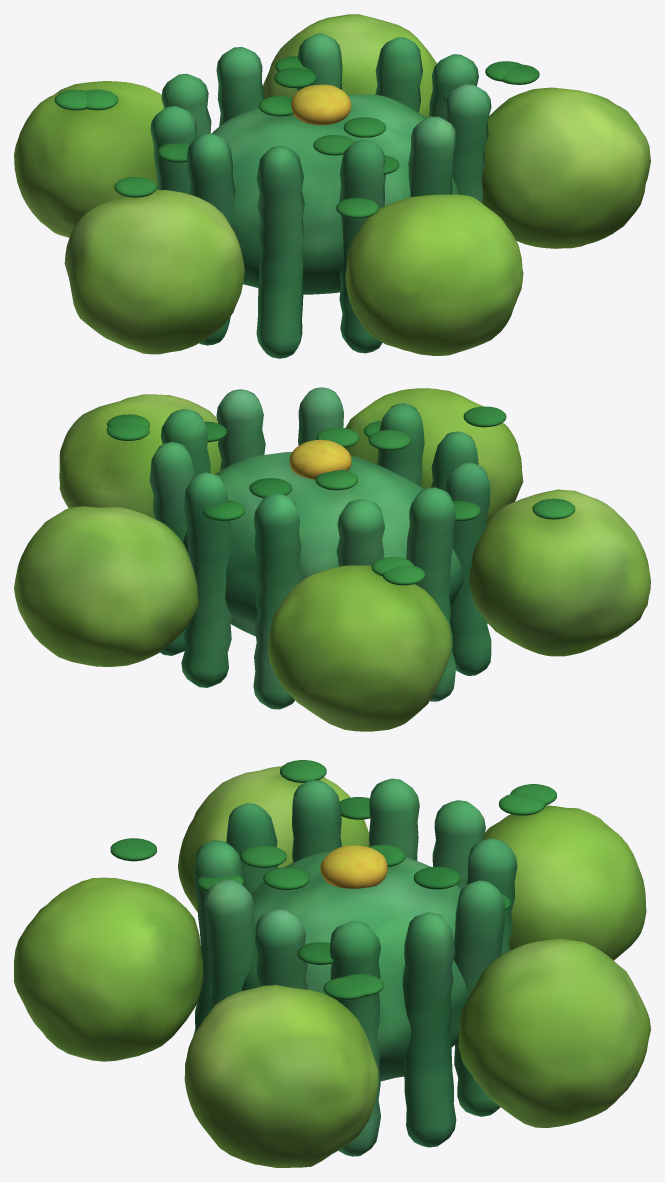
Rendered from photosystem-1.glb.
The picture shows the model from 3 angles, top to bottom: view 1: azimuth 30°, elevation 25°; view 2: azimuth 150°, elevation 25°; view 3: azimuth 270°, elevation 25°; orthographic projection. The views are drawn at different scales.
Visible parts, largest first — view 1: photosystem-1-antenna, photosystem-1-core, photosystem-1-chlorophyll, photosystem-1-reaction-centre; view 2: photosystem-1-antenna, photosystem-1-core, photosystem-1-chlorophyll, photosystem-1-reaction-centre; view 3: photosystem-1-antenna, photosystem-1-core, photosystem-1-chlorophyll, photosystem-1-reaction-centre.
Part boxes in pixels (box(x1,y1,x2,y2)): photosystem-1-antenna: box(14, 14, 650, 355); photosystem-1-core: box(150, 33, 491, 358); photosystem-1-chlorophyll: box(54, 56, 539, 218); photosystem-1-reaction-centre: box(291, 84, 351, 125); photosystem-1-antenna: box(14, 388, 650, 731); photosystem-1-core: box(149, 387, 491, 709); photosystem-1-chlorophyll: box(106, 406, 575, 585); photosystem-1-reaction-centre: box(289, 439, 351, 479); photosystem-1-antenna: box(14, 766, 650, 1167); photosystem-1-core: box(193, 778, 517, 1156); photosystem-1-chlorophyll: box(110, 760, 556, 999); photosystem-1-reaction-centre: box(320, 845, 387, 888).
Size of what is drawn, in the model's own units: 2.13 by 0.759 by 1.88.
